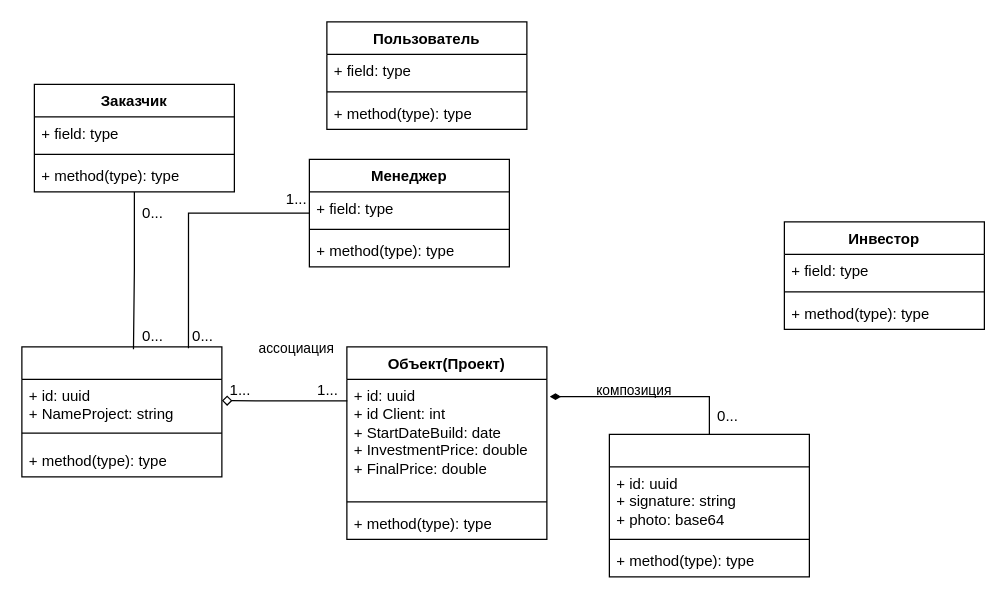
This 1006x603 diagram has some shape labels left out. Here are the shapes that lost their labels. From the top down, the box of each, then its label:
(21, 346, 222, 477): Договор
(608, 433, 809, 577): Чертеж Проекта
